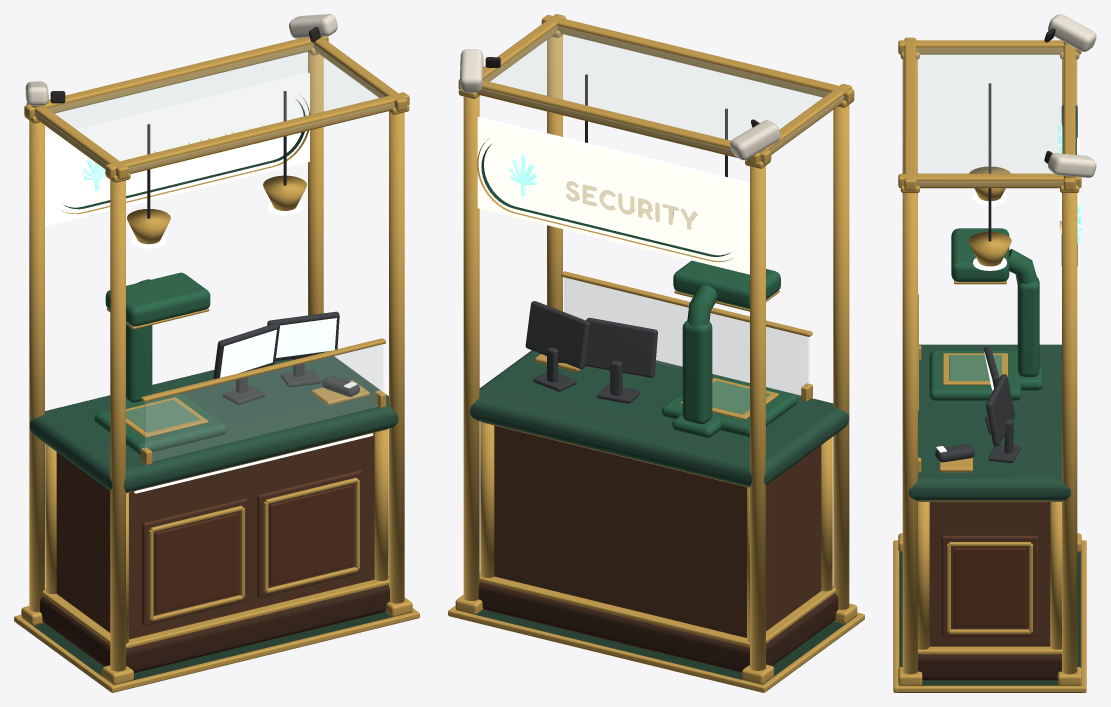
File: security_booth_tier5.glb
The picture shows the model from 3 angles, left to right: view 1: azimuth 30°, elevation 25°; view 2: azimuth 150°, elevation 25°; view 3: azimuth 270°, elevation 25°; orthographic projection. The views are drawn at different scales.
Parts seen in each view (by area): view 1: Body, CanopyGlass, Top, SignGlow, GuardGlass, Plinth, FrontPost-1, FrontPost1, RearPost-1, Front1Inset, Front0Inset, CanopyFrame0 (+27 smaller); view 2: Body, SignGlow, Top, CanopyGlass, GuardGlass, Plinth, RearPost1, FrontPost-1, RearPost-1, CanopyFrame0, CanopyFrame1, PlinthBrass (+21 smaller); view 3: CanopyGlass, Top, Body, FrontPost1, RearPost1, EndInset, Plinth, End, CanopyFrame3, CanopyFrame2, ScanPad, ArmCol (+29 smaller).
Boxes of the visible parts, x1,y1,x2,y2 form: Body: [56, 433, 374, 639]; CanopyGlass: [34, 44, 394, 174]; Top: [29, 356, 398, 492]; SignGlow: [45, 72, 309, 226]; GuardGlass: [144, 344, 382, 461]; Plinth: [40, 585, 389, 672]; FrontPost-1: [110, 180, 125, 671]; FrontPost1: [389, 112, 404, 603]; RearPost-1: [29, 120, 44, 612]; Front1Inset: [269, 485, 352, 584]; Front0Inset: [154, 513, 237, 613]; CanopyFrame0: [105, 92, 409, 178]; Body: [494, 425, 821, 637]; SignGlow: [477, 116, 749, 274]; Top: [470, 350, 848, 486]; CanopyGlass: [479, 26, 844, 160]; GuardGlass: [564, 278, 809, 397]; Plinth: [478, 582, 838, 672]; RearPost1: [463, 96, 479, 600]; FrontPost-1: [833, 105, 849, 609]; RearPost-1: [750, 166, 765, 670]; CanopyFrame0: [541, 15, 854, 103]; CanopyFrame1: [458, 79, 771, 164]; PlinthBrass: [479, 573, 836, 647]; CanopyGlass: [903, 48, 1076, 185]; Top: [909, 344, 1070, 500]; Body: [929, 502, 1050, 646]; FrontPost1: [902, 193, 917, 674]; RearPost1: [1062, 193, 1077, 674]; EndInset: [954, 548, 1026, 626]; Plinth: [918, 654, 1061, 680]; End: [941, 535, 1038, 636]; CanopyFrame3: [898, 173, 1081, 188]; CanopyFrame2: [898, 40, 1081, 54]; ScanPad: [929, 350, 1021, 400]; ArmCol: [1017, 277, 1039, 376].
Bounding box in the file's own units: 1.46 × 2.44 × 0.841.
